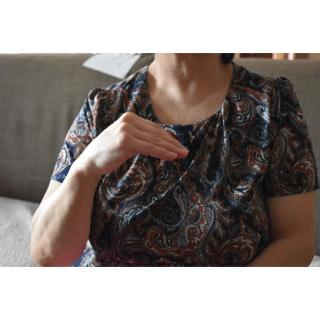HAA: (84, 109, 194, 183)
